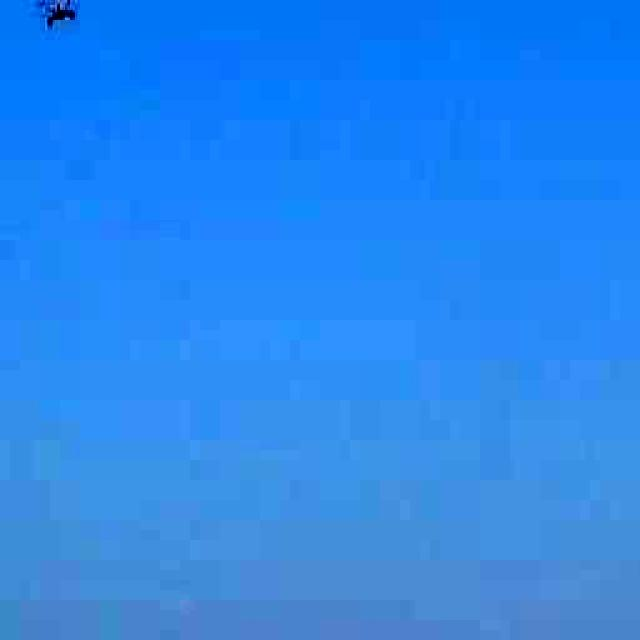bird: (32, 0, 92, 38)
